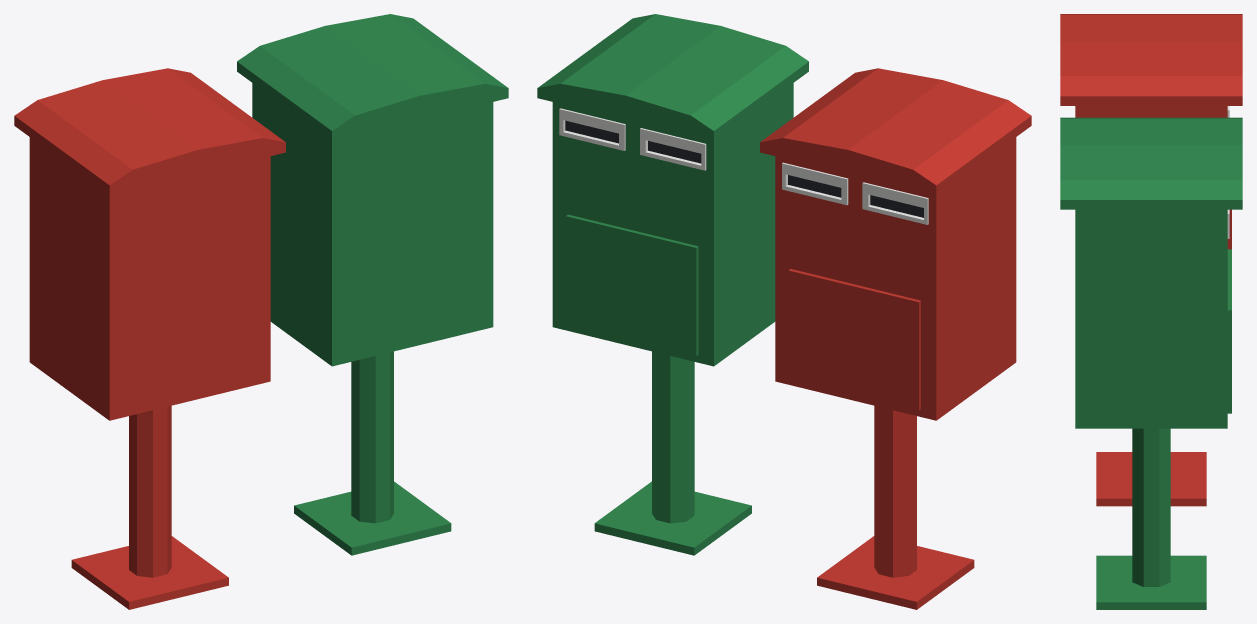
Rendered from tw-post-boxes.glb.
3 views of the same model, side by side, from view 1: azimuth 30°, elevation 25°; view 2: azimuth 150°, elevation 25°; view 3: azimuth 270°, elevation 25° (orthographic). The views are drawn at different scales.
Visible parts, largest first — view 1: tw_post_boxes; view 2: tw_post_boxes; view 3: tw_post_boxes.
Part boxes in pixels (x1=…): tw_post_boxes: x1=14, y1=14, x2=508, y2=609; tw_post_boxes: x1=537, y1=14, x2=1031, y2=609; tw_post_boxes: x1=1060, y1=14, x2=1242, y2=609.
Bounding box in the file's own units: 1.04 × 1.15 × 0.43.
